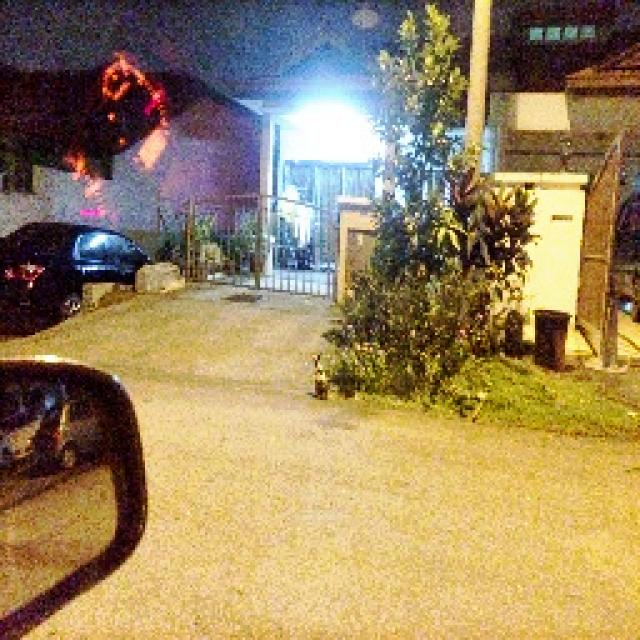cat: (289, 342, 349, 413)
